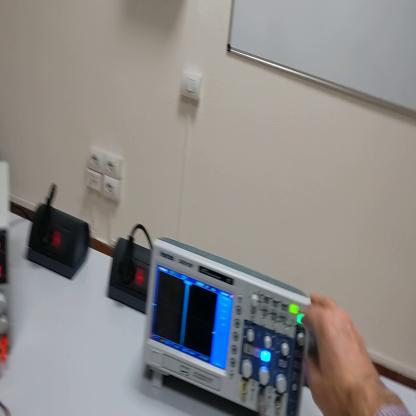hand: (298, 293, 378, 415)
oscilloscope: (138, 236, 308, 415)
power supply: (2, 164, 17, 356)
socket: (23, 201, 93, 282), (108, 236, 151, 318)
